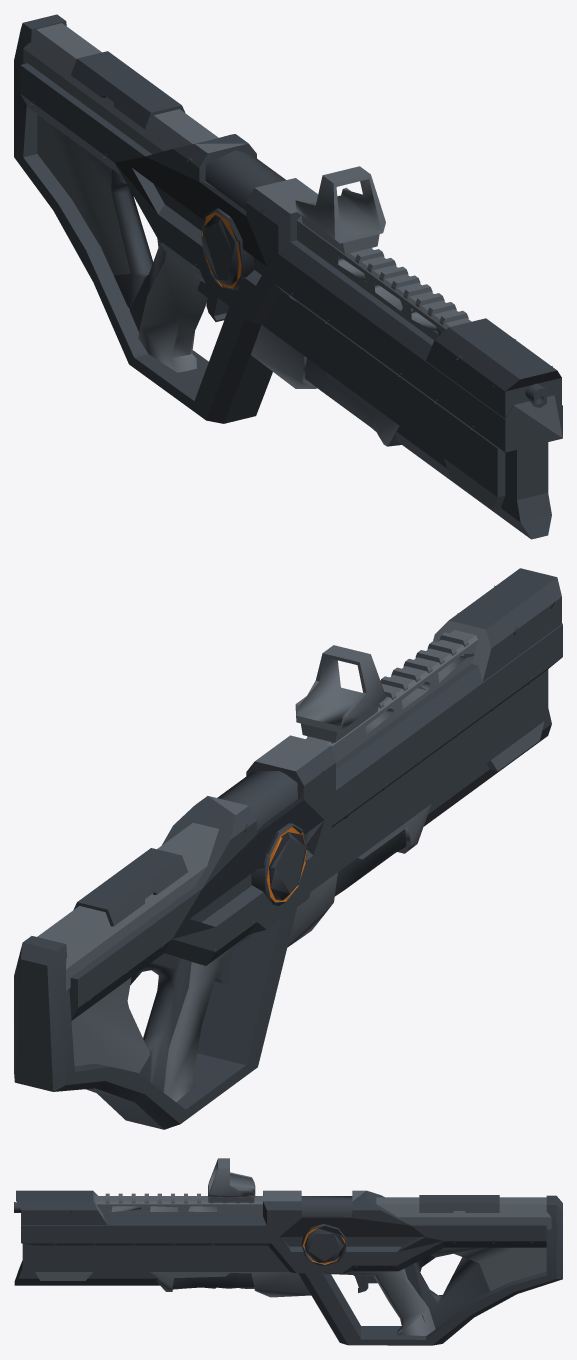
Rendered from mesh_rifle.glb.
3 renders of one model, top to bottom at view 1: azimuth 30°, elevation 25°; view 2: azimuth 150°, elevation 25°; view 3: azimuth 270°, elevation 25°, orthographic. The views are drawn at different scales.
Visible parts, largest first — view 1: rifle; view 2: rifle; view 3: rifle.
Boxes of the visible parts, x1,y1,x2,y2 form: rifle: (14, 14, 562, 539); rifle: (14, 568, 562, 1129); rifle: (14, 1158, 562, 1345).
Bounding box in the file's own units: 0.0739 × 0.3175 × 0.9.
Materials: 1 (1 with a texture image).
